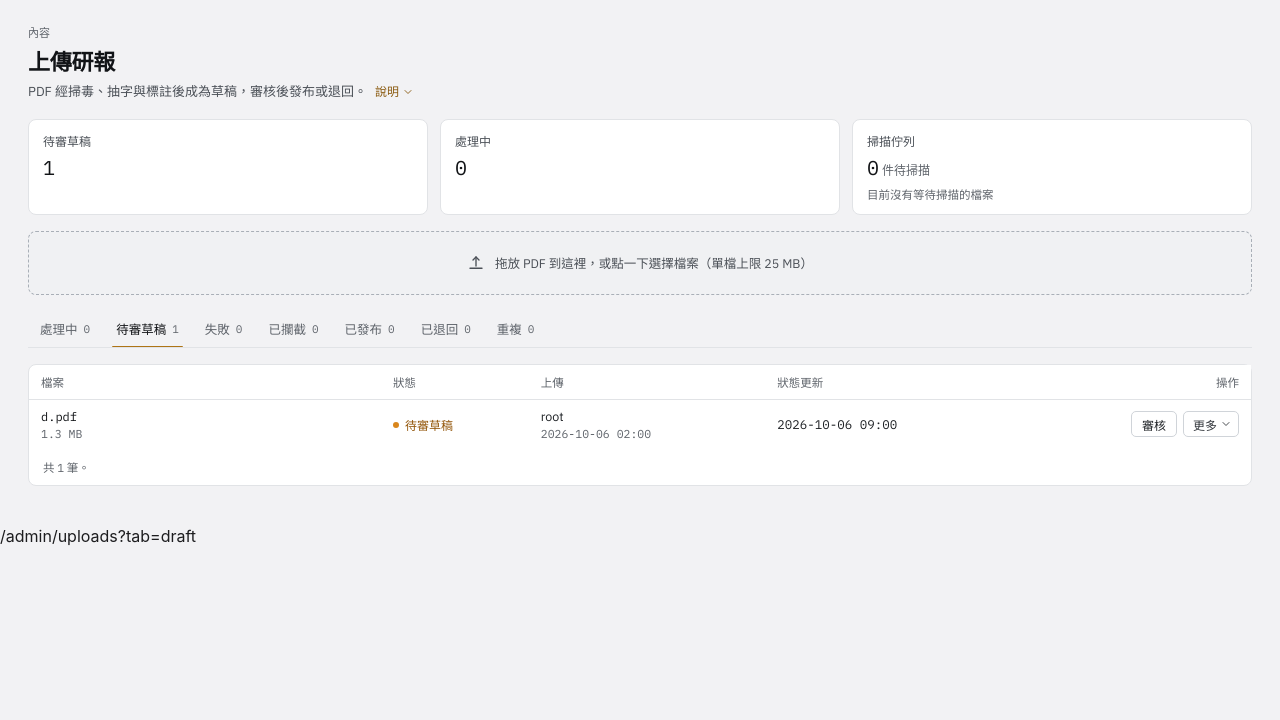
it: 點列開詳情抽屜並寫進網址，分頁籤參數保留；關閉後拿掉
What coordinates should you click on to do the following:
click the text "root"
I would click on:
 (552, 416)
Its box is [541,408,564,424].
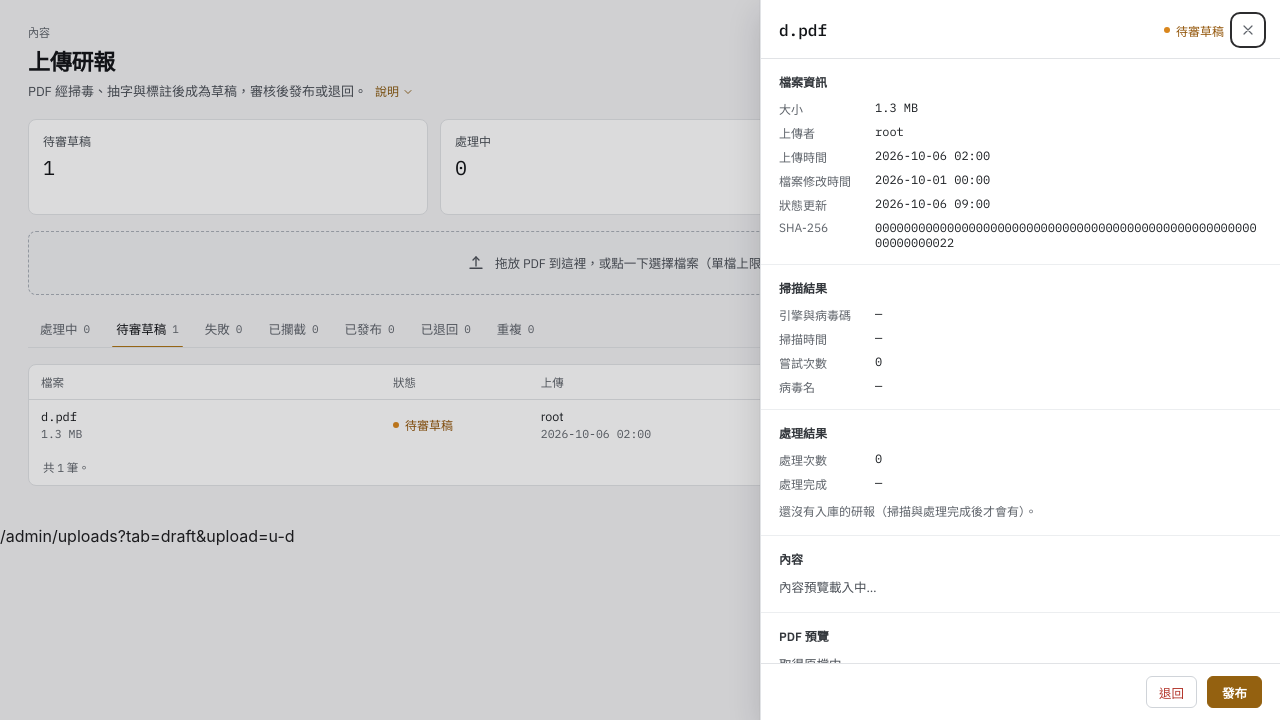
Result: the text with test id "where" reads "/admin/uploads?tab=draft&upload=u-d" at [0,526,295,546]
What coordinates should you click on to do the following:
click the button named "關閉"
I would click on:
 (1248, 30)
Its box is [1234,16,1262,44].
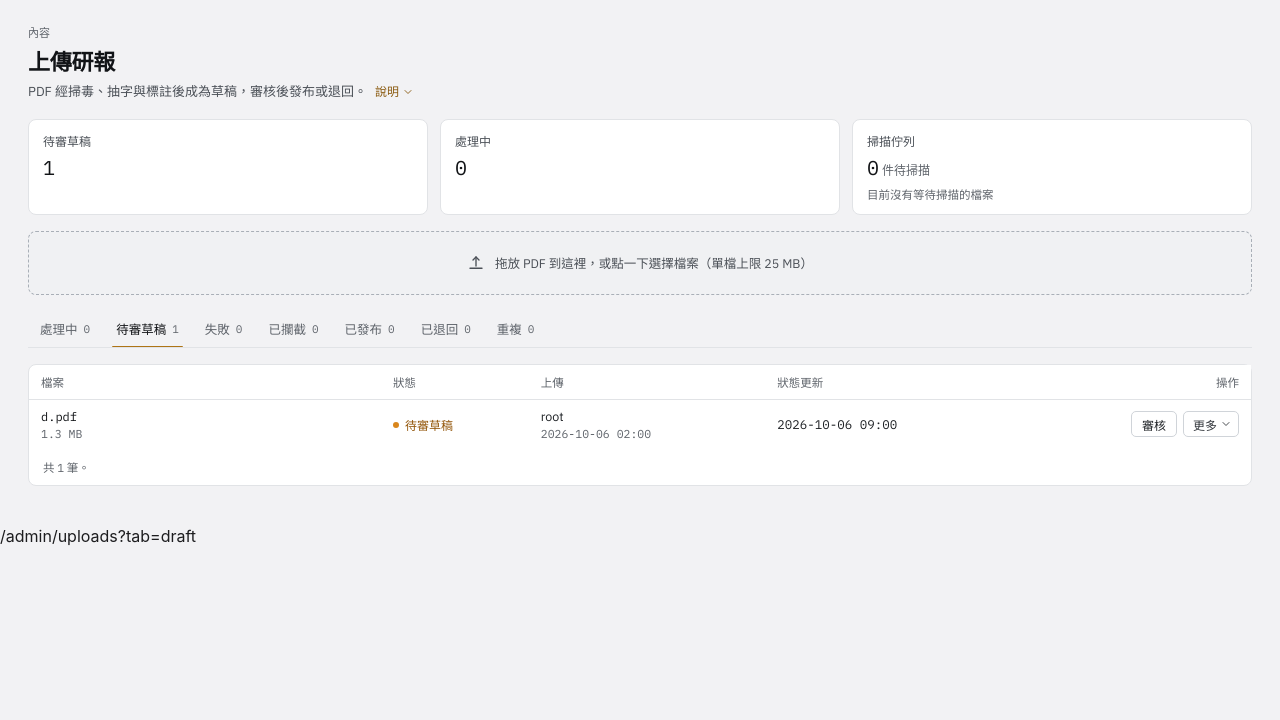
Result: the dialog is gone
Result: the text with test id "where" reads "/admin/uploads?tab=draft" at [0,526,196,546]
